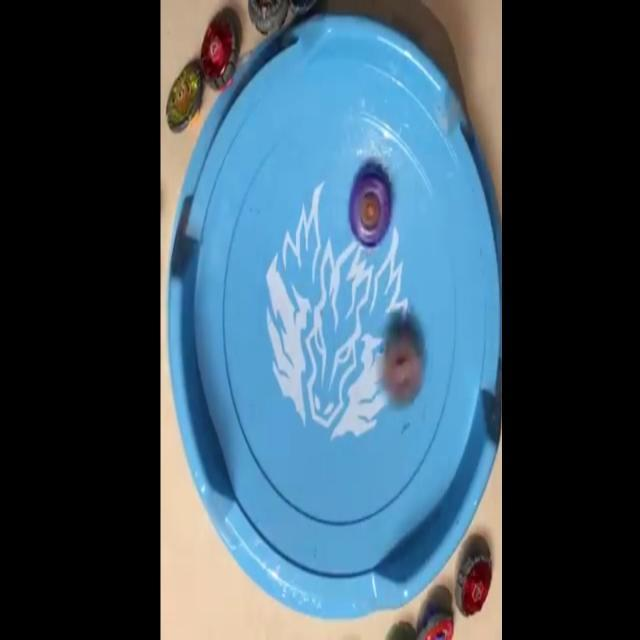Beyblade: (200, 15, 238, 94), (350, 171, 390, 246), (382, 337, 424, 406), (166, 64, 203, 134), (456, 553, 493, 617)
